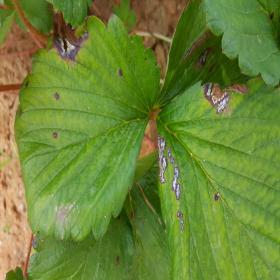Leaf Spot: (14, 10, 161, 242), (154, 76, 279, 279), (27, 148, 169, 279), (152, 0, 279, 109)
